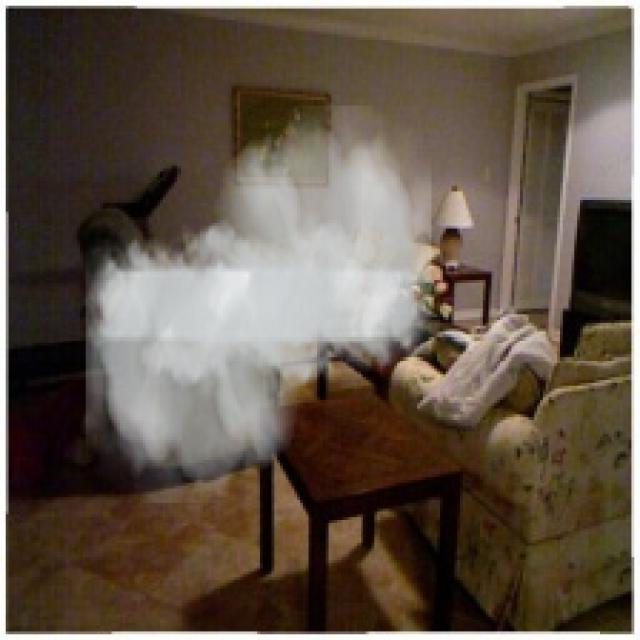smoke: (86, 106, 431, 503)
